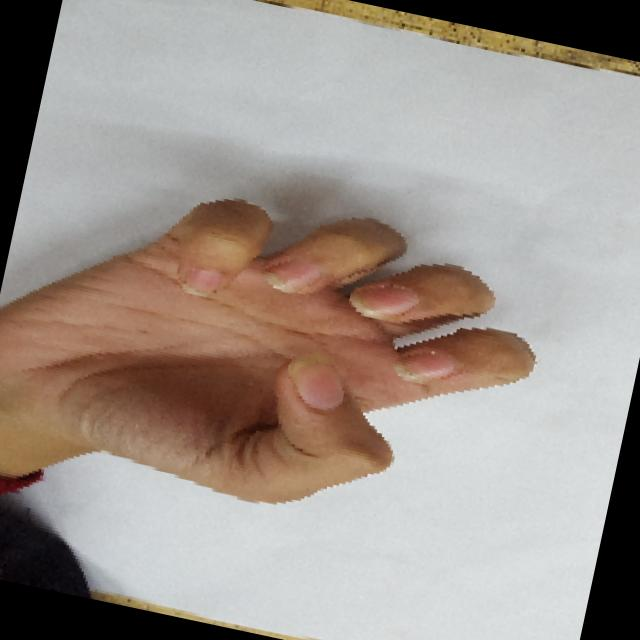Nail: (287, 353, 343, 409), (349, 284, 417, 316), (392, 350, 455, 382), (262, 259, 319, 293), (181, 267, 221, 295)
